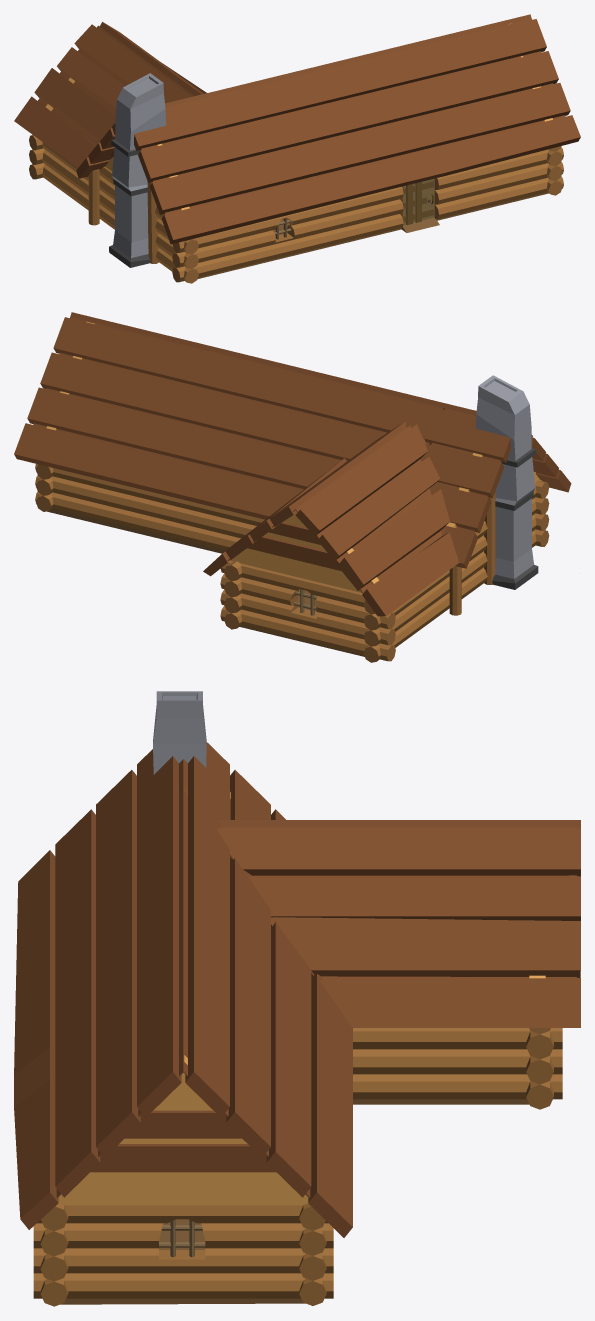
File: Home-cabin-model.fbx
The picture shows the model from 3 angles, top to bottom: view 1: azimuth 30°, elevation 25°; view 2: azimuth 150°, elevation 25°; view 3: azimuth 270°, elevation 25°; orthographic projection. The views are drawn at different scales.
Visible parts, largest first — view 1: Roof, Log Wall, Chimney, Log Pillar, Floor, Door Bars, Chimney Joint, Door Board; view 2: Roof, Log Wall, Chimney, under-roof.001, Log Pillar, Floor, Chimney Joint; view 3: Roof, Log Wall, under-roof.001, Chimney, Floor, Window 2.
Boxes of the visible parts, <box> form: Roof: <box>14,14,580,244</box>; Log Wall: <box>29,135,563,283</box>; Chimney: <box>112,73,166,257</box>; Log Pillar: <box>88,169,158,263</box>; Floor: <box>197,192,548,279</box>; Door Bars: <box>402,181,433,224</box>; Chimney Joint: <box>109,139,150,267</box>; Door Board: <box>402,178,434,224</box>; Roof: <box>14,312,571,616</box>; Log Wall: <box>35,464,549,662</box>; Chimney: <box>475,375,535,578</box>; under-roof.001: <box>46,321,539,592</box>; Log Pillar: <box>449,491,495,615</box>; Floor: <box>47,508,364,656</box>; Chimney Joint: <box>492,448,538,589</box>; Roof: <box>14,742,580,1237</box>; Log Wall: <box>33,1028,562,1306</box>; under-roof.001: <box>58,792,545,1205</box>; Chimney: <box>153,691,206,774</box>; Floor: <box>60,1099,529,1304</box>; Window 2: <box>159,1219,205,1257</box>.
Bounding box in the file's own units: 1920 × 724 × 1228.
